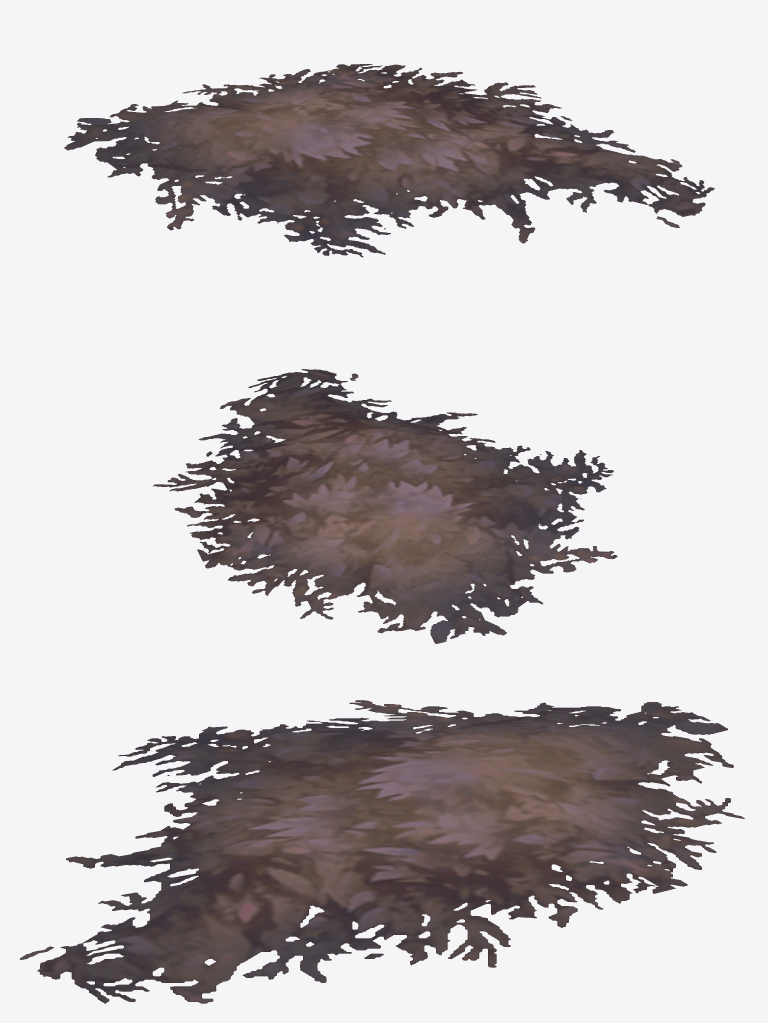
Rendered from yw_shanlin_ground_027.FBX.
The picture shows the model from 3 angles, top to bottom: view 1: azimuth 30°, elevation 25°; view 2: azimuth 150°, elevation 25°; view 3: azimuth 270°, elevation 25°; orthographic projection. The views are drawn at different scales.
Visible parts, largest first — view 1: yw_shanlin_ground_027; view 2: yw_shanlin_ground_027; view 3: yw_shanlin_ground_027.
Boxes of the visible parts, x1,y1,x2,y2 form: yw_shanlin_ground_027: (64,64,714,257); yw_shanlin_ground_027: (153,369,617,643); yw_shanlin_ground_027: (20,700,744,1003).
Bounding box in the file's own units: 272 × 18.83 × 272.
